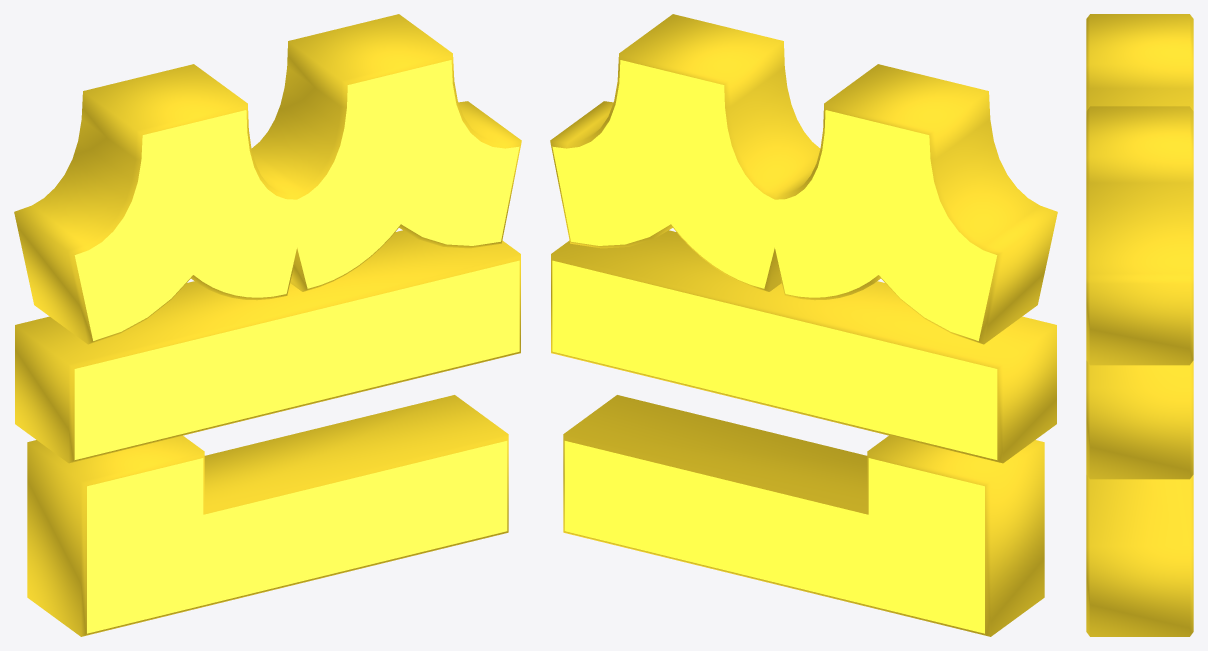
3 views of the same model, side by side, from view 1: azimuth 30°, elevation 25°; view 2: azimuth 150°, elevation 25°; view 3: azimuth 270°, elevation 25° (orthographic). The views are drawn at different scales.
Parts seen in each view (by area): view 1: glyph; view 2: glyph; view 3: glyph.
Part boxes in pixels (<box>): glyph: <box>14,14,521,636</box>; glyph: <box>550,14,1057,636</box>; glyph: <box>1086,14,1193,636</box>.
Bounding box in the file's own units: 0.0729 × 0.0756 × 0.0162.
